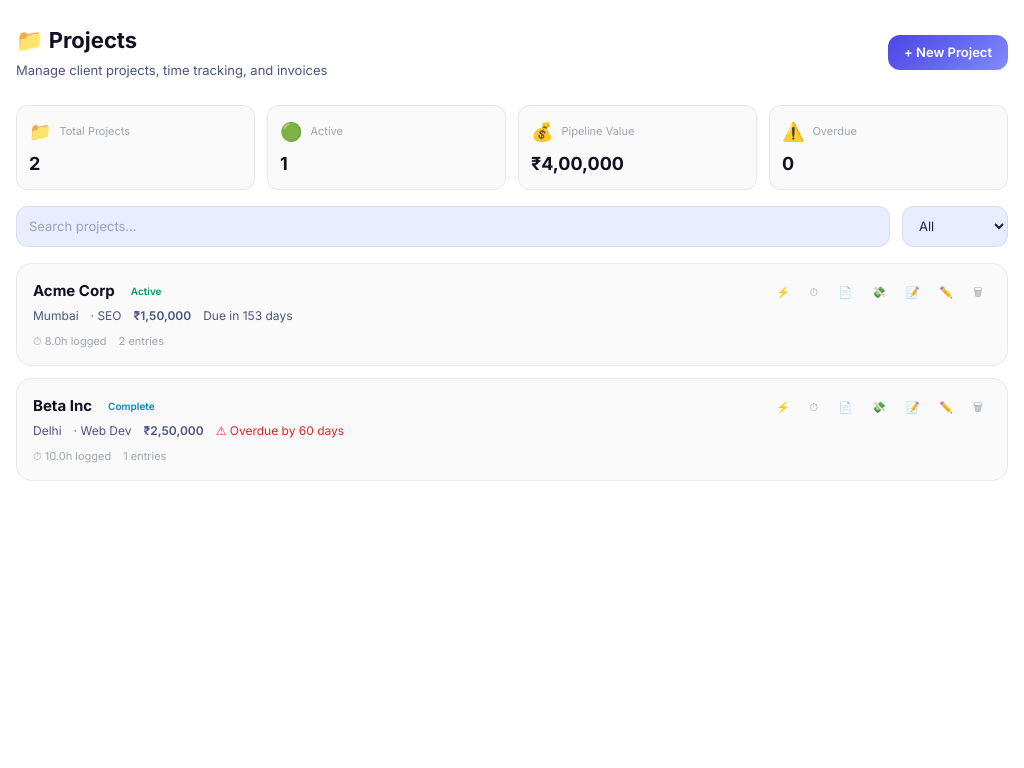
ProjectsTab › time tracking › opens time tracker modal when timer button is clicked
expect the heading "Acme Corp" is shown: met, box x1=33 y1=280 x2=115 y2=302
Click the button titled "Log Time" in the row of "Acme Corp".
click(814, 292)  # box x1=802 y1=280 x2=826 y2=304
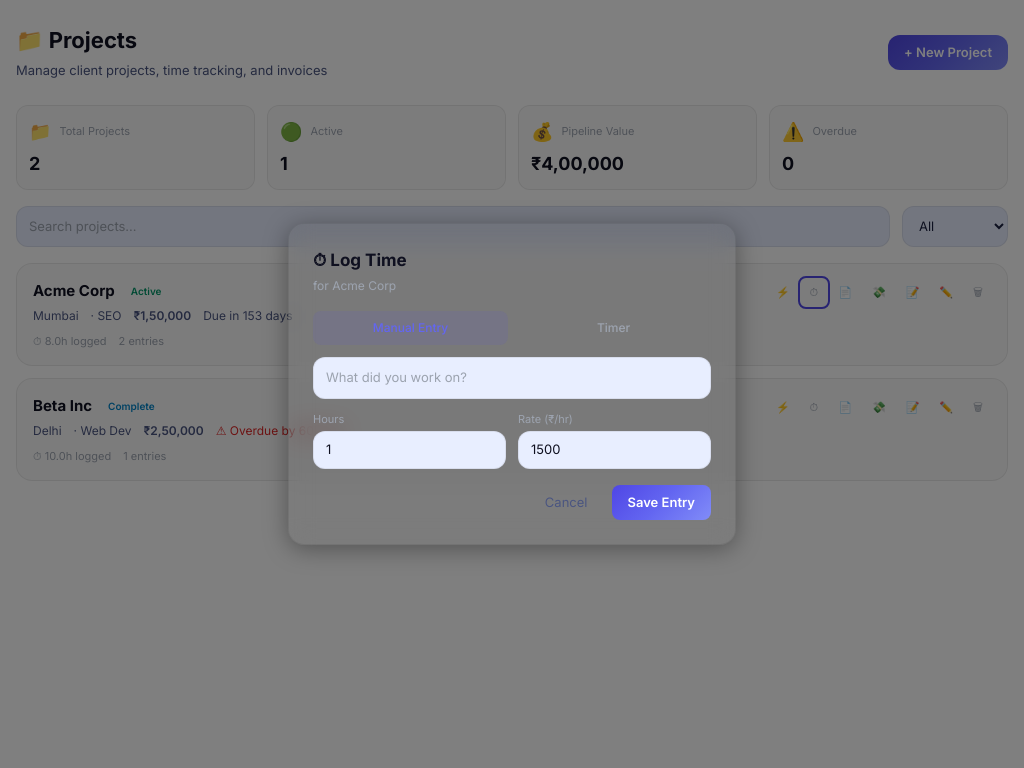
expect the heading "⏱ Log Time" is shown: met, box x1=313 y1=250 x2=407 y2=270
expect the text "for Acme Corp" is shown: met, box x1=313 y1=278 x2=396 y2=293
